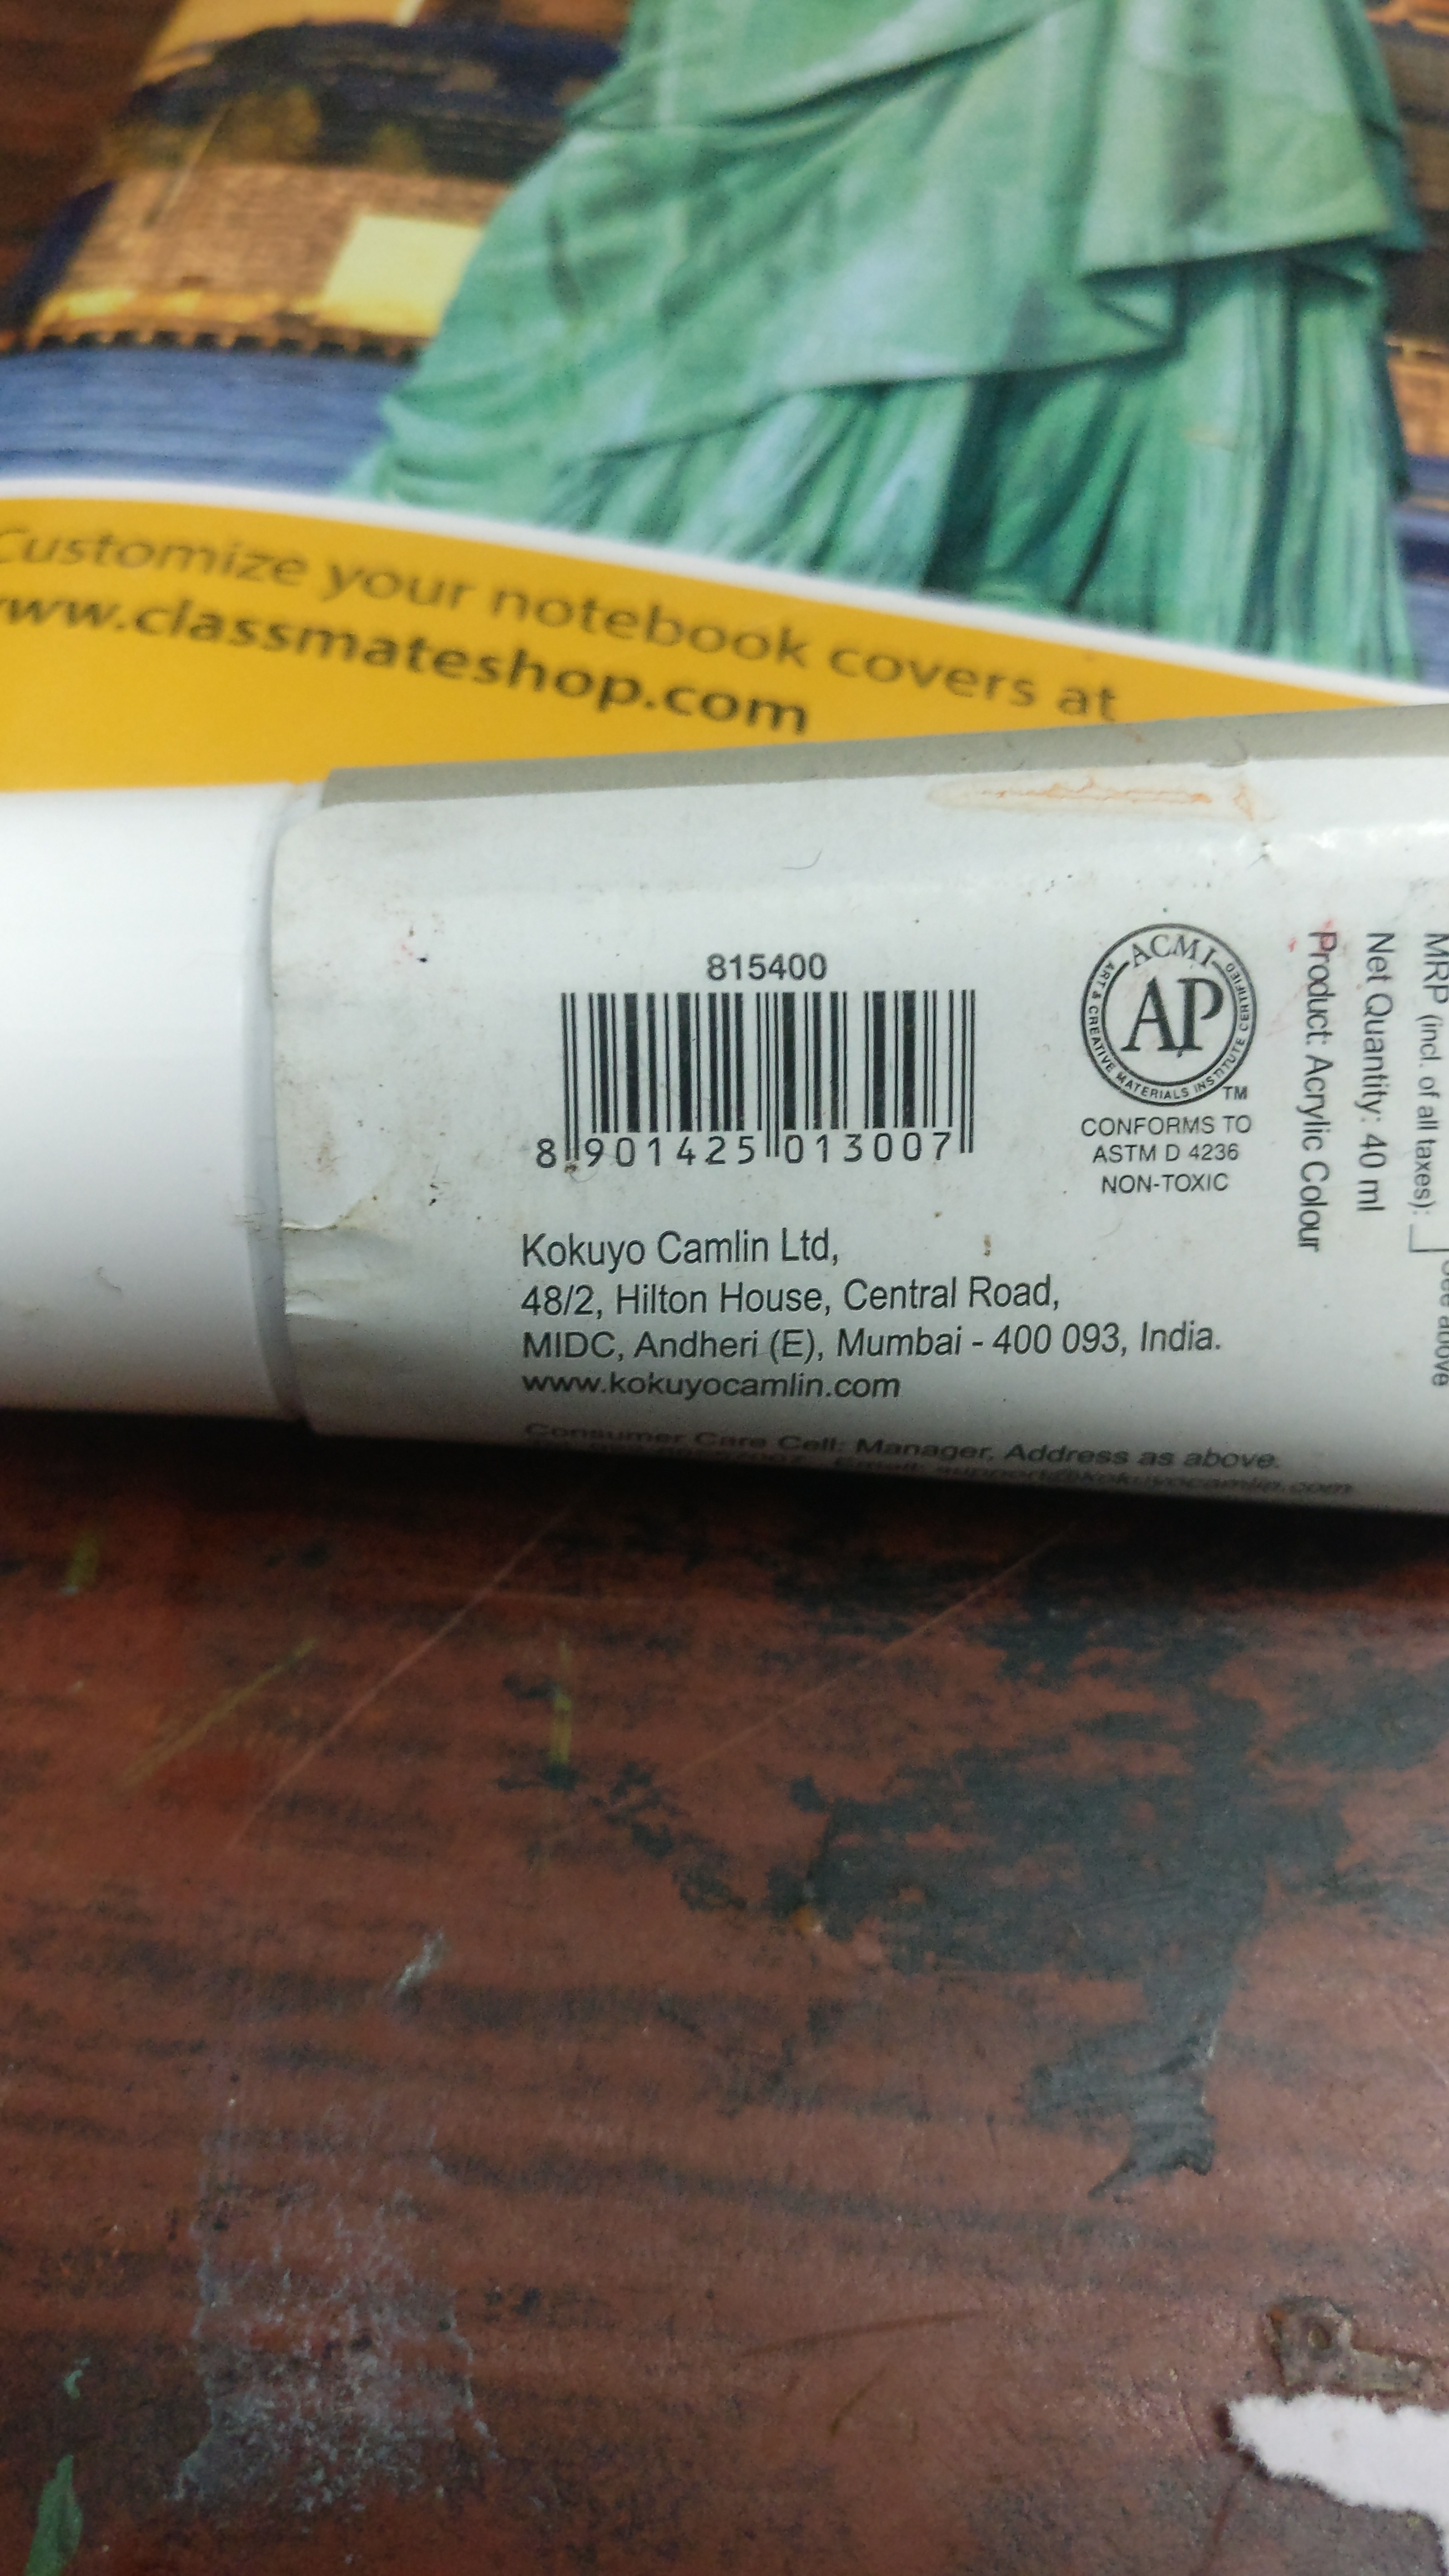barcode: (490, 941, 994, 1200)
